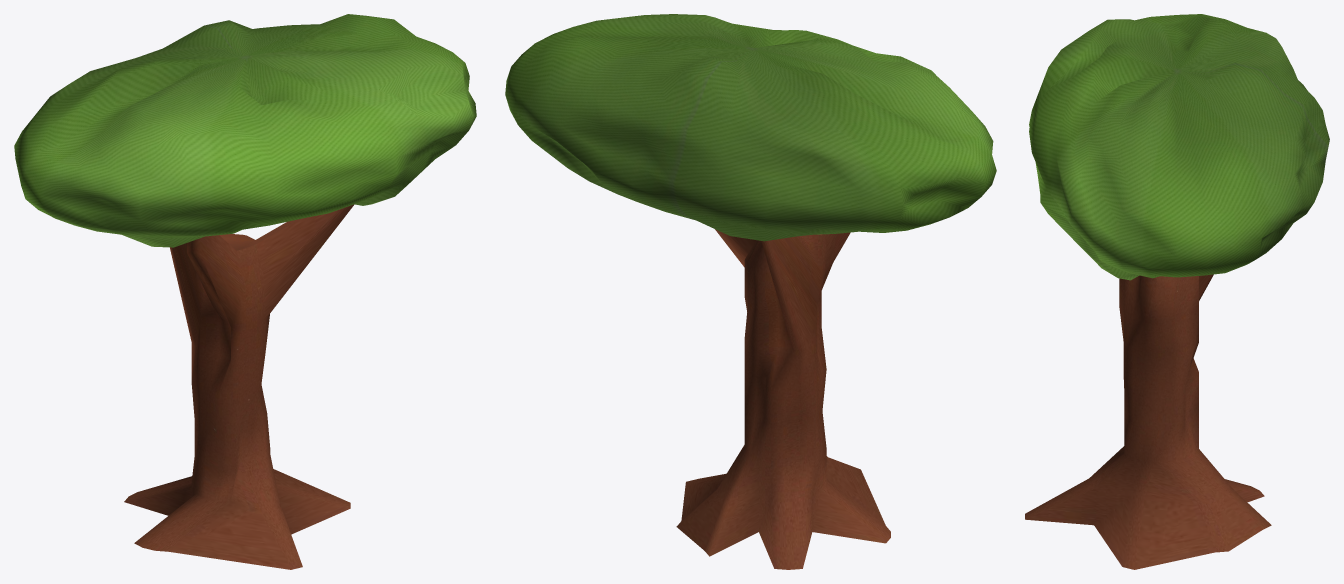
Rendered from arbre.FBX.
3 views of the same model, side by side, from view 1: azimuth 30°, elevation 25°; view 2: azimuth 150°, elevation 25°; view 3: azimuth 270°, elevation 25° (orthographic). The views are drawn at different scales.
Parts seen in each view (by area): view 1: Sphère001, Cylindre001; view 2: Sphère001, Cylindre001; view 3: Sphère001, Cylindre001.
Part boxes in pixels (x1=…): Sphère001: x1=14, y1=14, x2=476, y2=247; Cylindre001: x1=124, y1=204, x2=354, y2=569; Sphère001: x1=505, y1=14, x2=996, y2=241; Cylindre001: x1=676, y1=229, x2=890, y2=569; Sphère001: x1=1029, y1=14, x2=1329, y2=280; Cylindre001: x1=1025, y1=274, x2=1271, y2=569.
Bounding box in the file's own units: 88.42 × 86.38 × 51.29.
3 materials, 2 textured.
